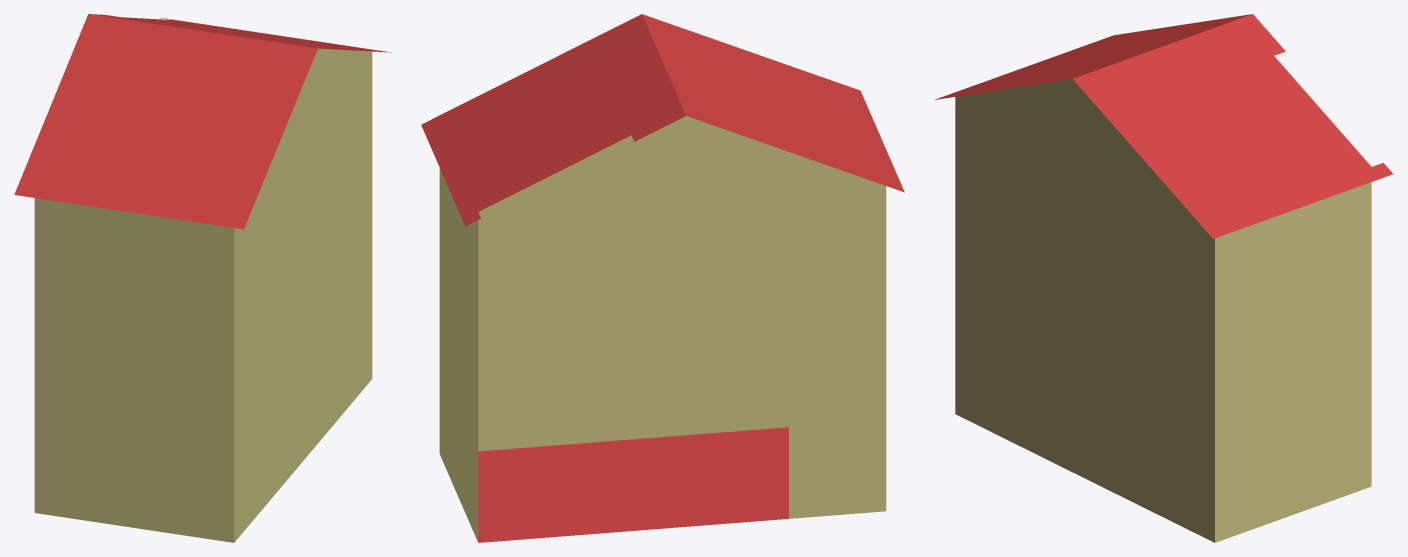
The picture shows the model from 3 angles, left to right: view 1: azimuth 30°, elevation 25°; view 2: azimuth 150°, elevation 25°; view 3: azimuth 270°, elevation 25°; orthographic projection. The views are drawn at different scales.
Bounding box in the file's own units: 15.51 × 14.8 × 14.32.
